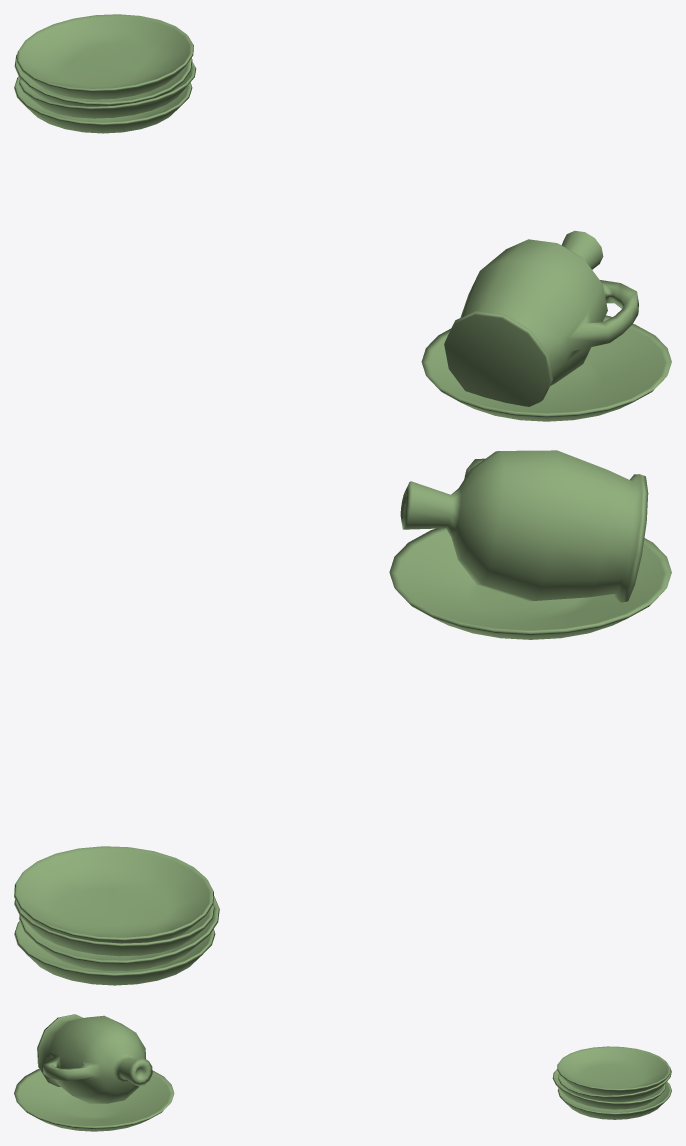
The model's file is Jar_Break_04A_Lod0.fbx.
3 views of the same model, one above another, from view 1: azimuth 30°, elevation 25°; view 2: azimuth 150°, elevation 25°; view 3: azimuth 270°, elevation 25° (orthographic). The views are drawn at different scales.
Parts seen in each view (by area): view 1: Jar_Break_04A_Lod0; view 2: Jar_Break_04A_Lod0; view 3: Jar_Break_04A_Lod0.
Boxes of the visible parts, x1,y1,x2,y2 form: Jar_Break_04A_Lod0: (14, 14, 671, 421); Jar_Break_04A_Lod0: (14, 450, 671, 985); Jar_Break_04A_Lod0: (14, 1014, 671, 1131).
Size of the model in its own units: 34.48 by 21.57 by 137.
